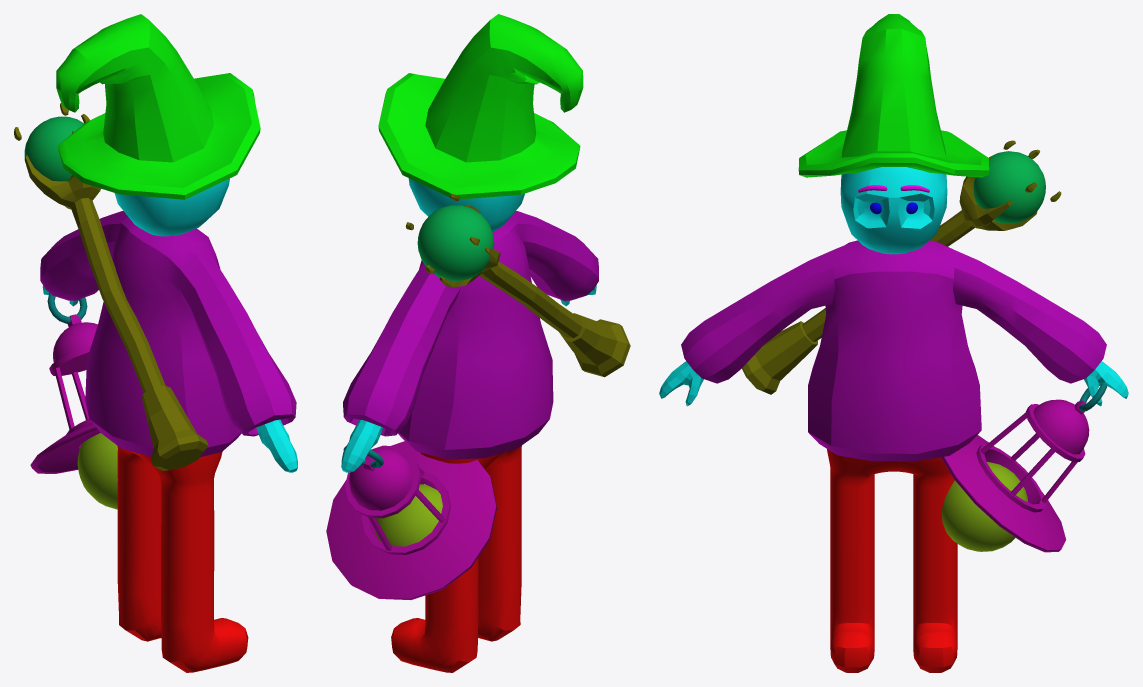
Rendered from Player_all_meshes_rig_game_export.fbx.
The picture shows the model from 3 angles, left to right: view 1: azimuth 30°, elevation 25°; view 2: azimuth 150°, elevation 25°; view 3: azimuth 270°, elevation 25°; orthographic projection. The views are drawn at different scales.
Parts seen in each view (by area): view 1: MESH_Player_Cloak, MESH_Player_Hat, MESH_Player_Body_Bottoms, polySurface22, polySurface26, MESH_Player_Head, polySurface21, MESH_Player_Hands, polySurface29; view 2: MESH_Player_Cloak, MESH_Player_Hat, polySurface26, MESH_Player_Body_Bottoms, polySurface22, polySurface21, MESH_Player_Head, MESH_Player_Hands; view 3: MESH_Player_Cloak, MESH_Player_Body_Bottoms, MESH_Player_Hat, polySurface26, MESH_Player_Head, polySurface22, polySurface21, MESH_Player_Hands.
Part boxes in pixels (<box>): MESH_Player_Cloak: <box>40,211,296,457</box>; MESH_Player_Hat: <box>56,14,260,199</box>; MESH_Player_Body_Bottoms: <box>117,446,248,672</box>; polySurface22: <box>14,103,208,470</box>; polySurface26: <box>30,314,117,509</box>; MESH_Player_Head: <box>114,178,229,236</box>; polySurface21: <box>24,116,84,181</box>; MESH_Player_Hands: <box>42,285,297,472</box>; polySurface29: <box>47,293,87,323</box>; MESH_Player_Cloak: <box>343,211,598,459</box>; MESH_Player_Hat: <box>378,14,583,199</box>; polySurface26: <box>326,441,496,599</box>; MESH_Player_Body_Bottoms: <box>391,445,521,672</box>; polySurface22: <box>405,194,630,377</box>; polySurface21: <box>417,205,494,280</box>; MESH_Player_Head: <box>408,178,524,231</box>; MESH_Player_Hands: <box>341,285,596,472</box>; MESH_Player_Cloak: <box>681,240,1106,461</box>; MESH_Player_Body_Bottoms: <box>827,449,958,672</box>; MESH_Player_Hat: <box>798,14,989,177</box>; polySurface26: <box>941,399,1089,552</box>; MESH_Player_Head: <box>840,167,947,254</box>; polySurface22: <box>742,140,1061,394</box>; polySurface21: <box>973,151,1045,223</box>; MESH_Player_Hands: <box>659,361,1128,406</box>.
Size of the model in its own units: 6.47 by 20.73 by 14.38.
